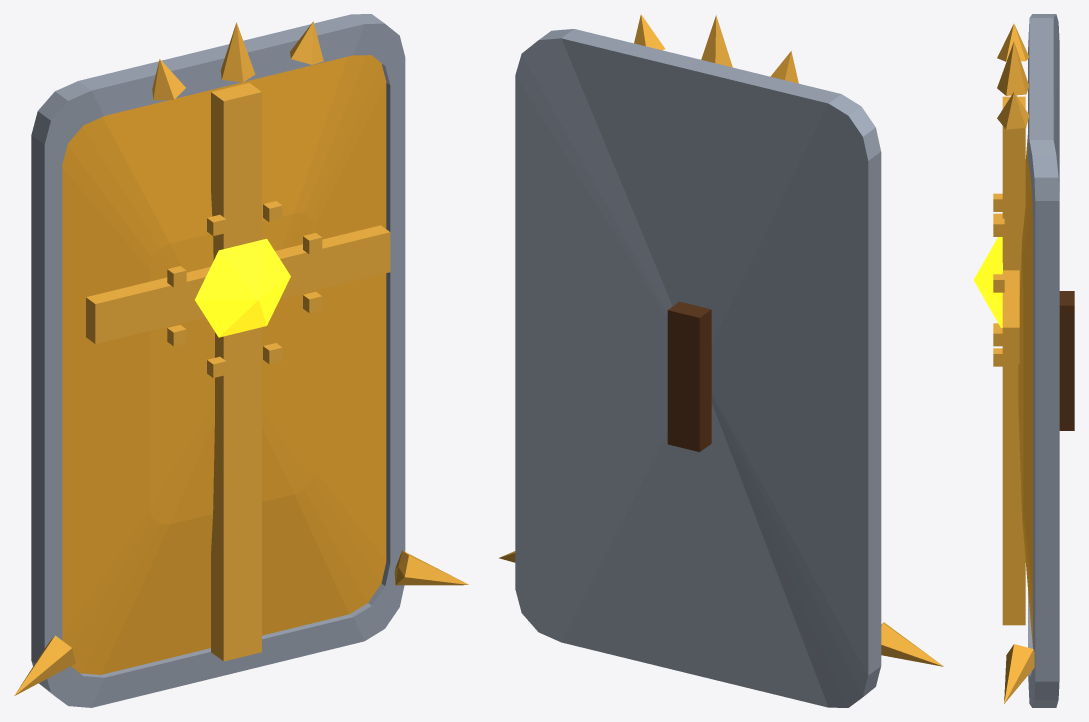
Rendered from shield_tower_legendary.glb.
The picture shows the model from 3 angles, left to right: view 1: azimuth 30°, elevation 25°; view 2: azimuth 150°, elevation 25°; view 3: azimuth 270°, elevation 25°; orthographic projection. The views are drawn at different scales.
Parts seen in each view (by area): view 1: shield_tower_legendary_export; view 2: shield_tower_legendary_export; view 3: shield_tower_legendary_export.
Boxes of the visible parts, x1,y1,x2,y2 form: shield_tower_legendary_export: (14, 14, 468, 707); shield_tower_legendary_export: (499, 14, 943, 707); shield_tower_legendary_export: (973, 14, 1074, 707).
Size of the model in its own units: 83.47 by 115 by 17.54.
